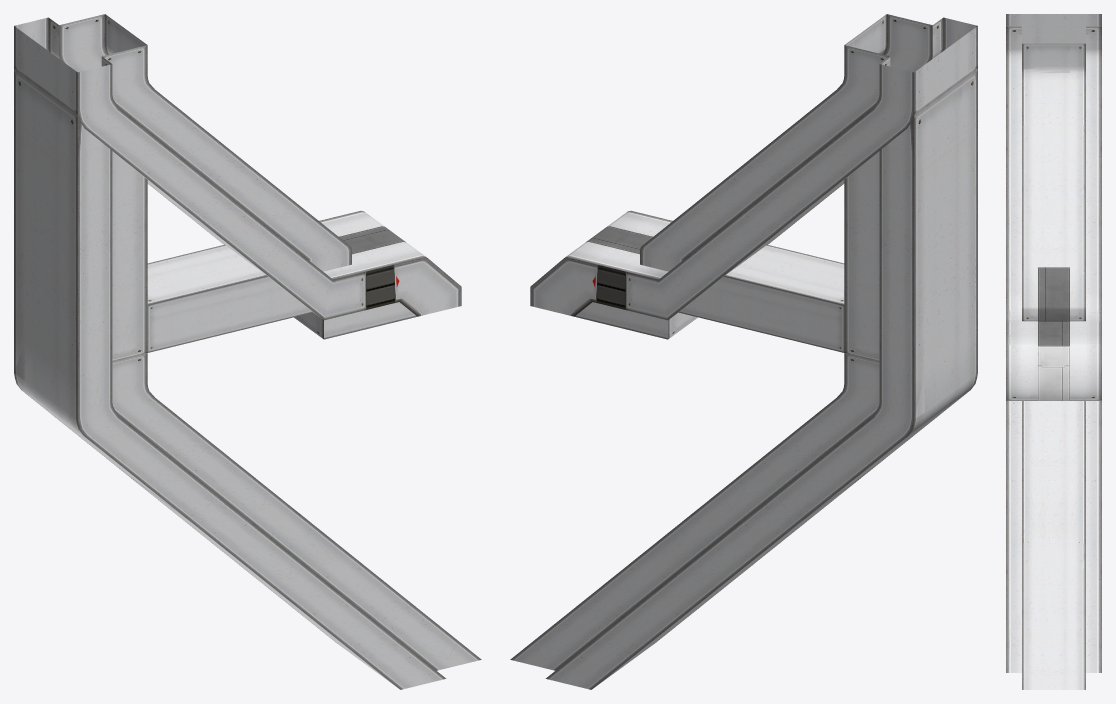
The model's file is DK_LRGpillarb.FBX.
3 renders of one model, left to right at view 1: azimuth 30°, elevation 25°; view 2: azimuth 150°, elevation 25°; view 3: azimuth 270°, elevation 25°, orthographic. The views are drawn at different scales.
Parts seen in each view (by area): view 1: DK_LRGpillarb; view 2: DK_LRGpillarb; view 3: DK_LRGpillarb.
Part boxes in pixels (left/top/right/bottom): DK_LRGpillarb: left=14, top=14, right=481, bottom=689; DK_LRGpillarb: left=510, top=14, right=977, bottom=689; DK_LRGpillarb: left=1006, top=14, right=1101, bottom=689.
Bounding box in the file's own units: 11.27 × 18.09 × 3.
